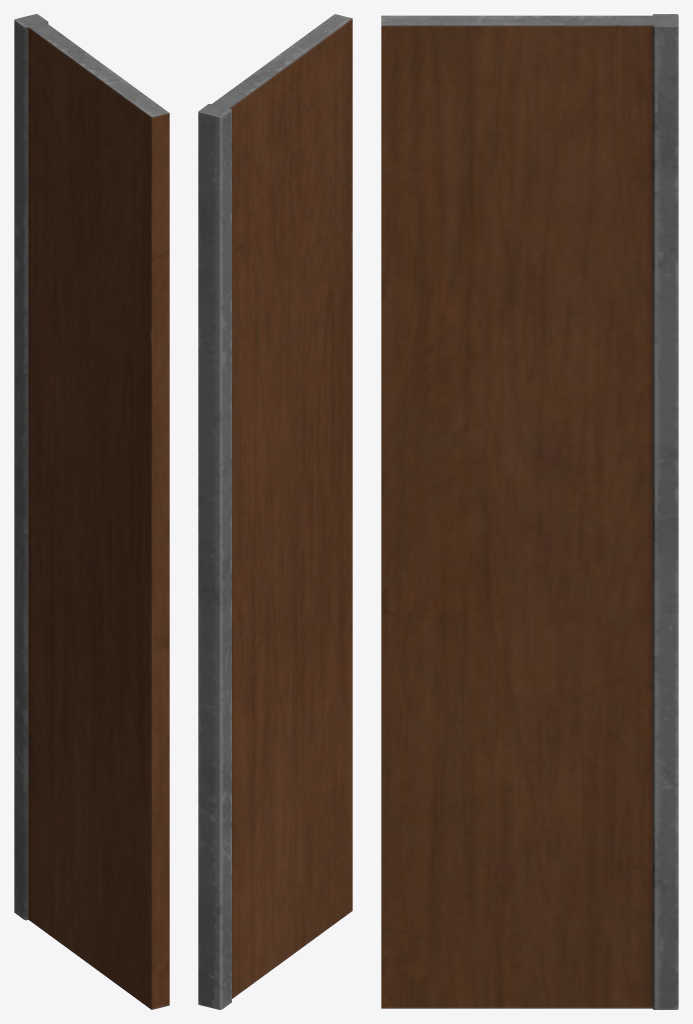
Rendered from door.fbx.
The picture shows the model from 3 angles, left to right: view 1: azimuth 30°, elevation 25°; view 2: azimuth 150°, elevation 25°; view 3: azimuth 270°, elevation 25°; orthographic projection. The views are drawn at different scales.
Parts seen in each view (by area): view 1: pasted__Low.002; view 2: pasted__Low.002; view 3: pasted__Low.002.
Part boxes in pixels (x1,y1,x2,y2): pasted__Low.002: [14, 14, 169, 1009]; pasted__Low.002: [198, 14, 352, 1009]; pasted__Low.002: [381, 14, 678, 1009].
Bounding box in the file's own units: 8.41 × 82.98 × 303.
